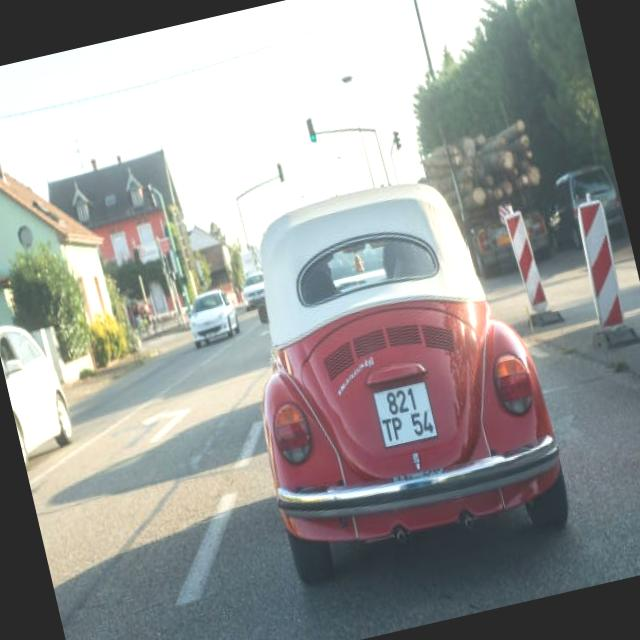car: (230, 156, 574, 574), (0, 328, 74, 457), (180, 284, 242, 347)
